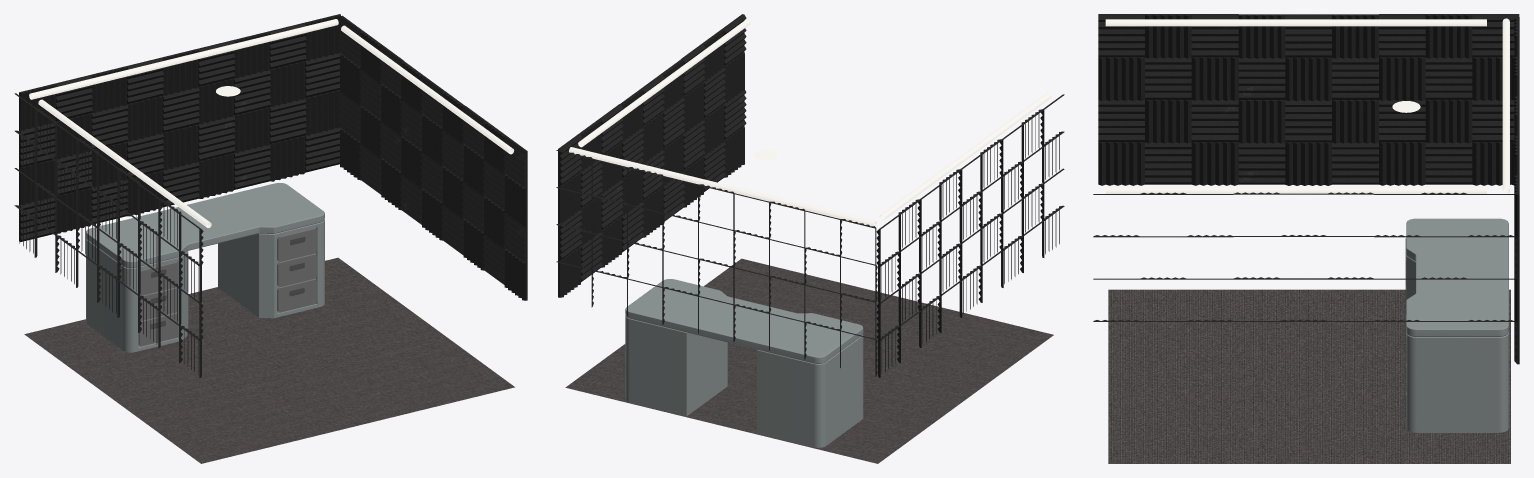
Rendered from room.glb.
The picture shows the model from 3 angles, left to right: view 1: azimuth 30°, elevation 25°; view 2: azimuth 150°, elevation 25°; view 3: azimuth 270°, elevation 25°; orthographic projection. The views are drawn at different scales.
Visible parts, largest first — view 1: Object_10, Object_7, Object_2, Object_8; view 2: Object_10, Object_7, Object_2, Object_8; view 3: Object_10, Object_7, Object_2, Object_8.
Part boxes in pixels (x1,y1,x2,y2): Object_10: (14, 14, 527, 378); Object_7: (24, 257, 514, 463); Object_2: (86, 183, 324, 352); Object_8: (29, 19, 514, 227); Object_10: (556, 14, 1064, 377); Object_7: (565, 258, 1053, 463); Object_2: (625, 279, 863, 447); Object_8: (569, 19, 1051, 226); Object_10: (1093, 14, 1519, 364); Object_7: (1108, 289, 1510, 463); Object_2: (1405, 218, 1508, 432); Object_8: (1105, 18, 1509, 193).
Bounding box in the file's own units: 2.96 × 2.09 × 2.95.
4 materials, 3 textured.
